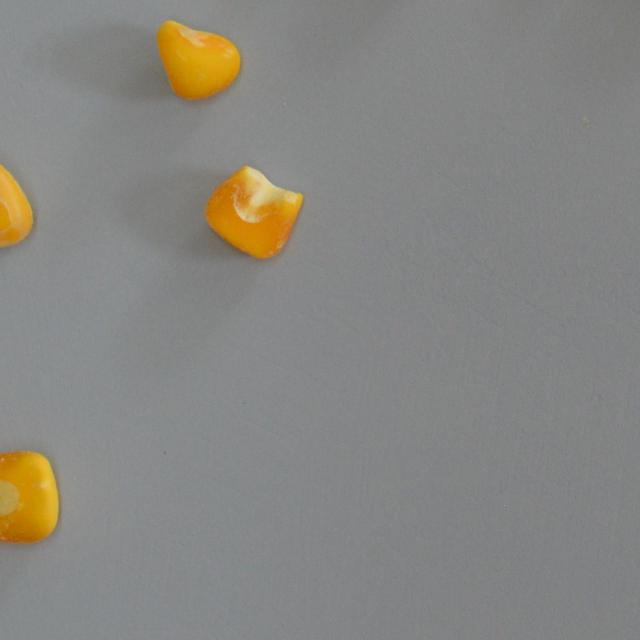pelicula: (203, 164, 303, 260), (154, 18, 241, 101), (0, 450, 60, 547), (0, 151, 34, 252)
